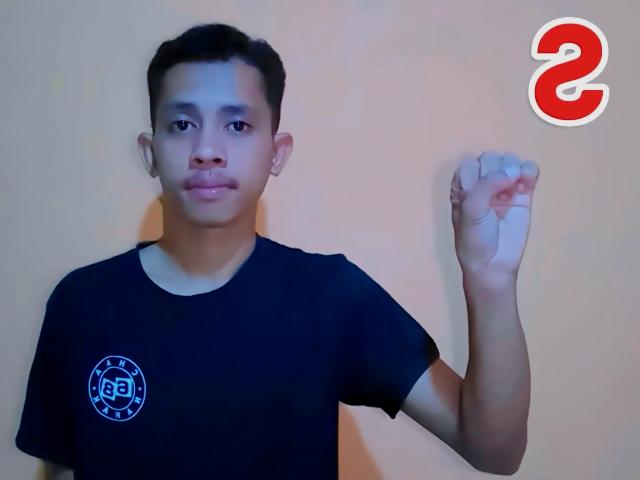S: (434, 146, 548, 284)
